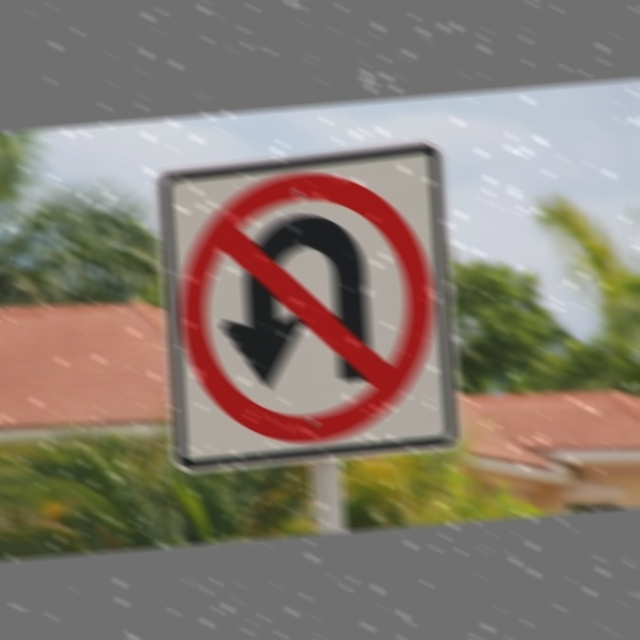U_Turn_Prohibited: (169, 155, 452, 456)
